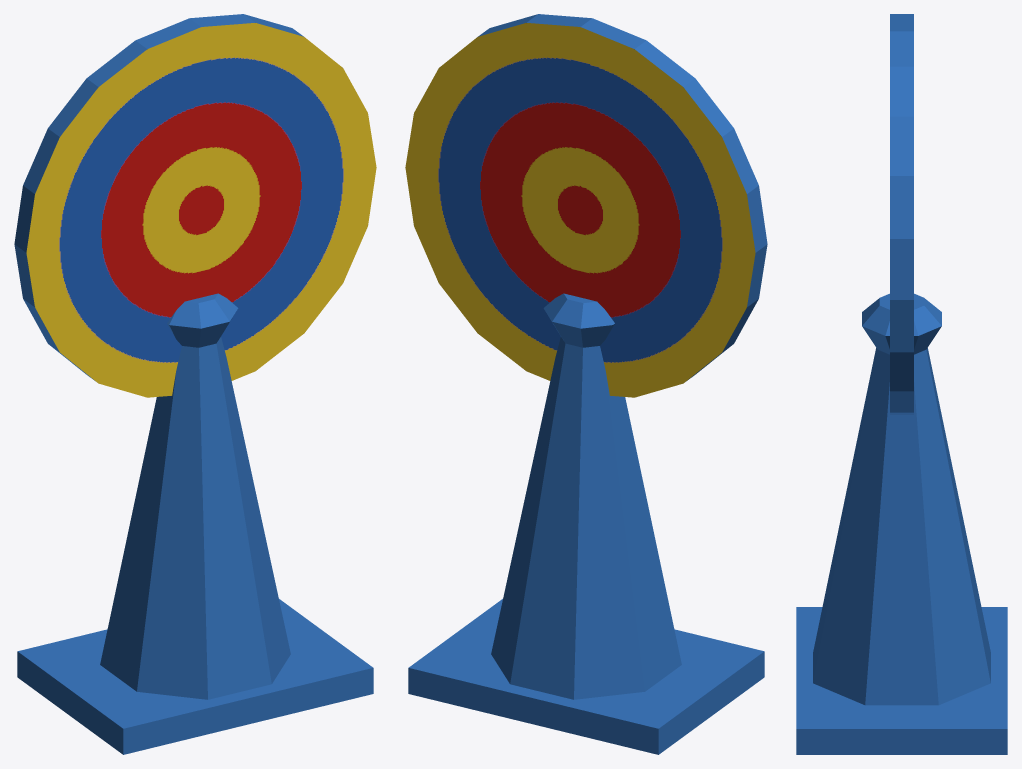
Rendered from target_blue.glb.
3 views of the same model, side by side, from view 1: azimuth 30°, elevation 25°; view 2: azimuth 150°, elevation 25°; view 3: azimuth 270°, elevation 25° (orthographic).
Parts seen in each view (by area): view 1: target_blue; view 2: target_blue; view 3: target_blue.
Part boxes in pixels (bbox=[...]): target_blue: bbox=[14, 14, 376, 754]; target_blue: bbox=[405, 14, 767, 754]; target_blue: bbox=[796, 14, 1007, 754].
Bounding box in the file's own units: 2.55 × 4.62 × 1.34.
1 material, 1 textured.
